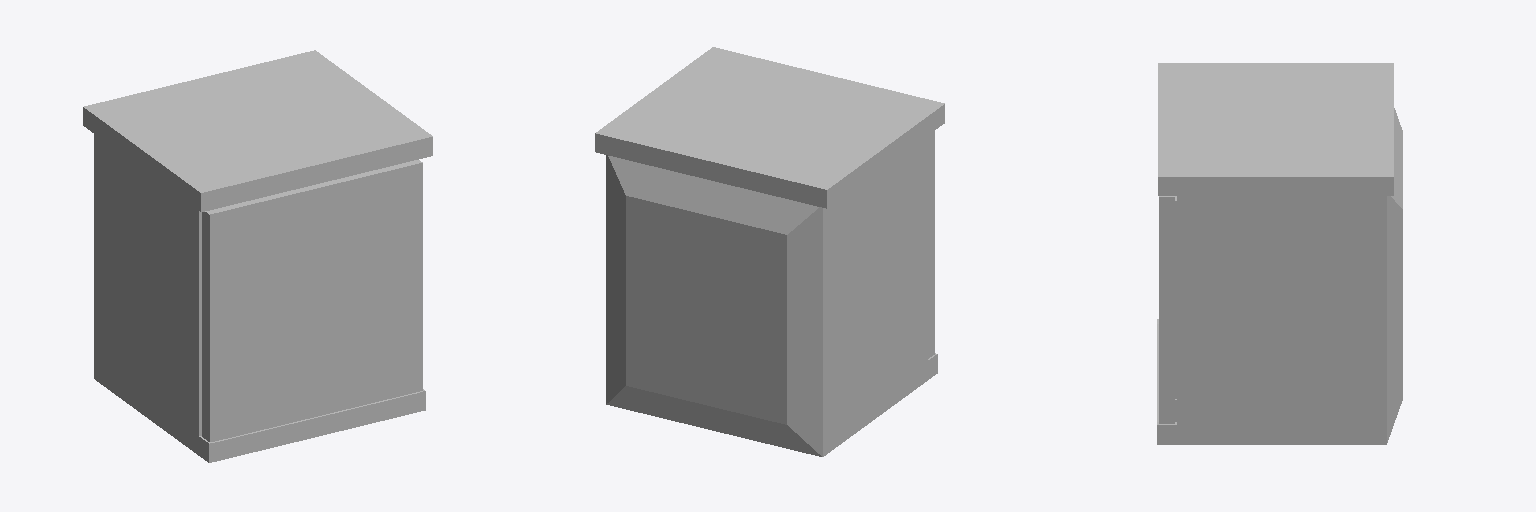
File: Dishwasher 1.obj
3 renders of one model, left to right at view 1: azimuth 30°, elevation 25°; view 2: azimuth 150°, elevation 25°; view 3: azimuth 270°, elevation 25°, orthographic.
Visible parts, largest first — view 1: Dishwasher1, Door; view 2: Dishwasher1, Door; view 3: Dishwasher1, Door.
Boxes of the visible parts, x1=… form: Dishwasher1: x1=83, y1=50, x2=432, y2=462; Door: x1=202, y1=160, x2=422, y2=441; Dishwasher1: x1=595, y1=47, x2=944, y2=456; Door: x1=928, y1=131, x2=934, y2=358; Dishwasher1: x1=1157, y1=63, x2=1402, y2=444; Door: x1=1159, y1=196, x2=1176, y2=423.
Bounding box in the file's own units: 316 × 354 × 290.